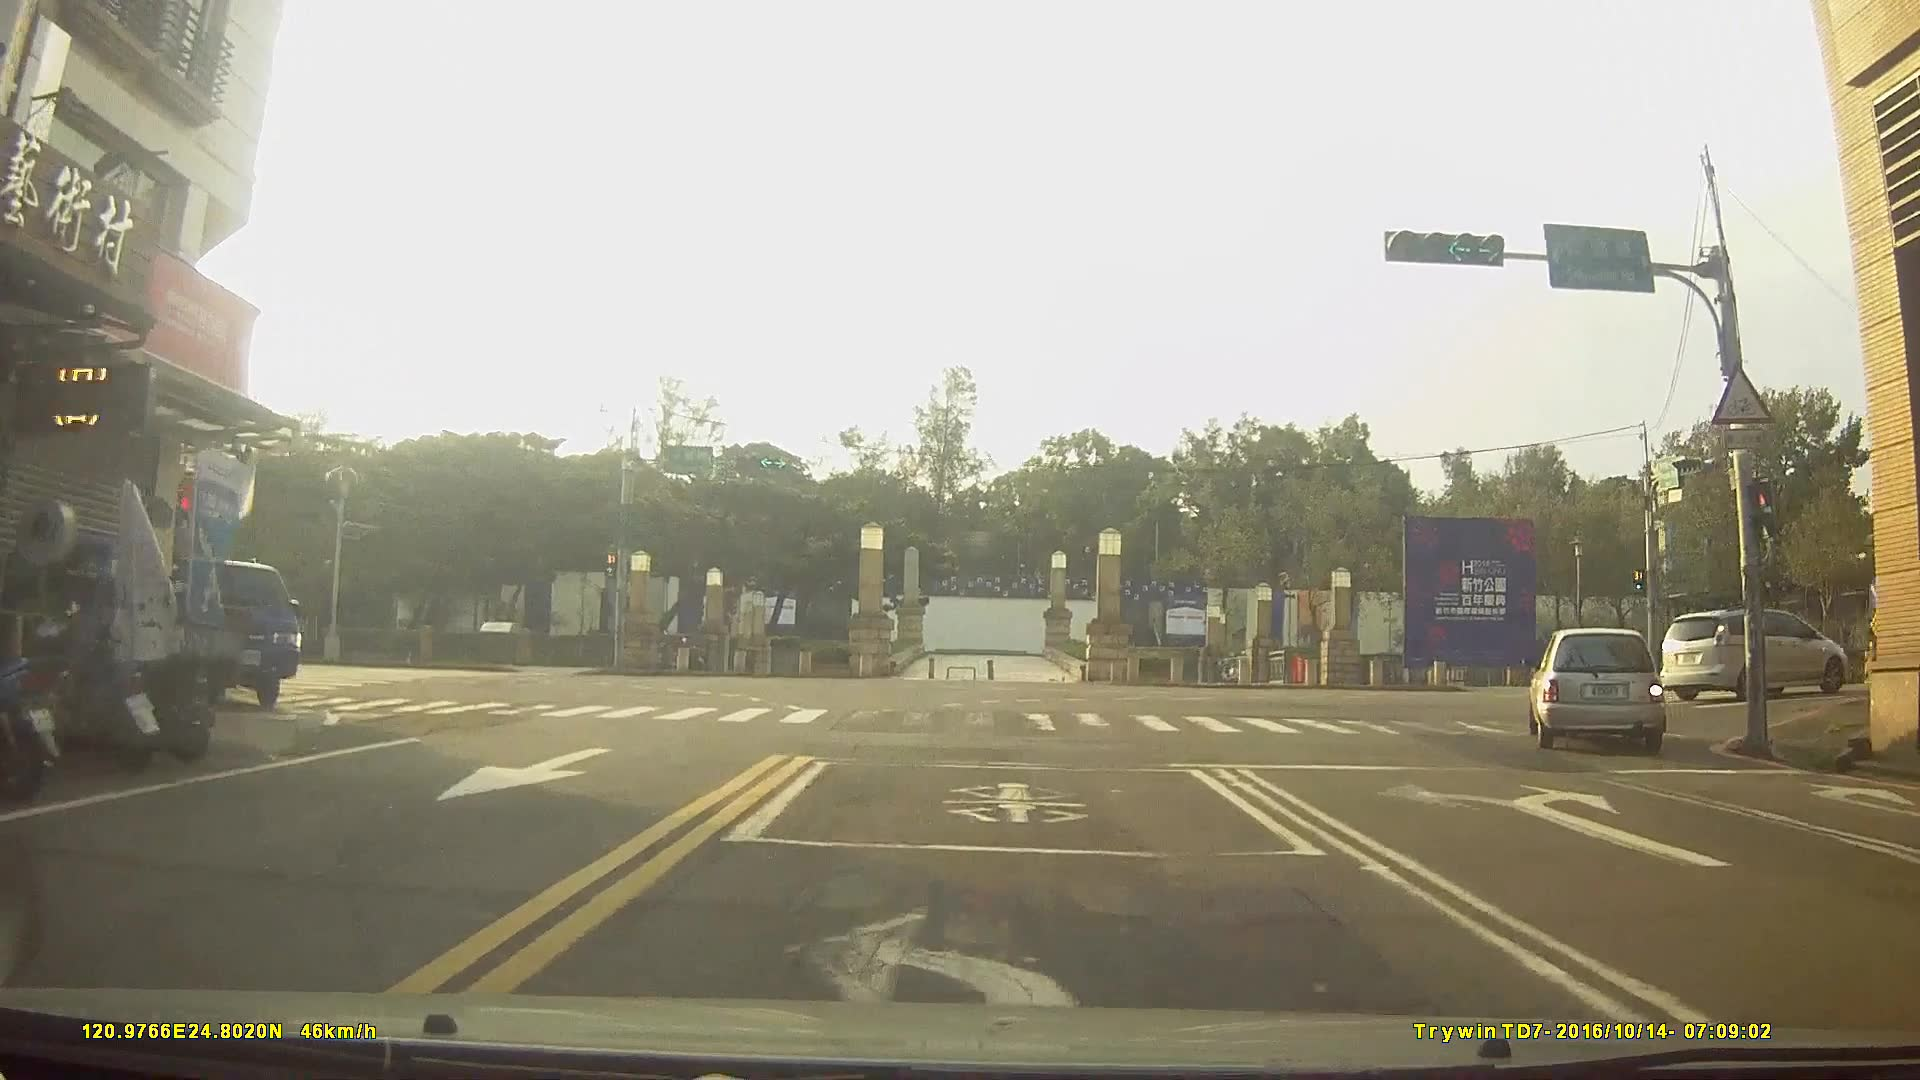vehicle: (171, 555, 299, 711), (1658, 604, 1849, 700), (1524, 625, 1668, 752)
